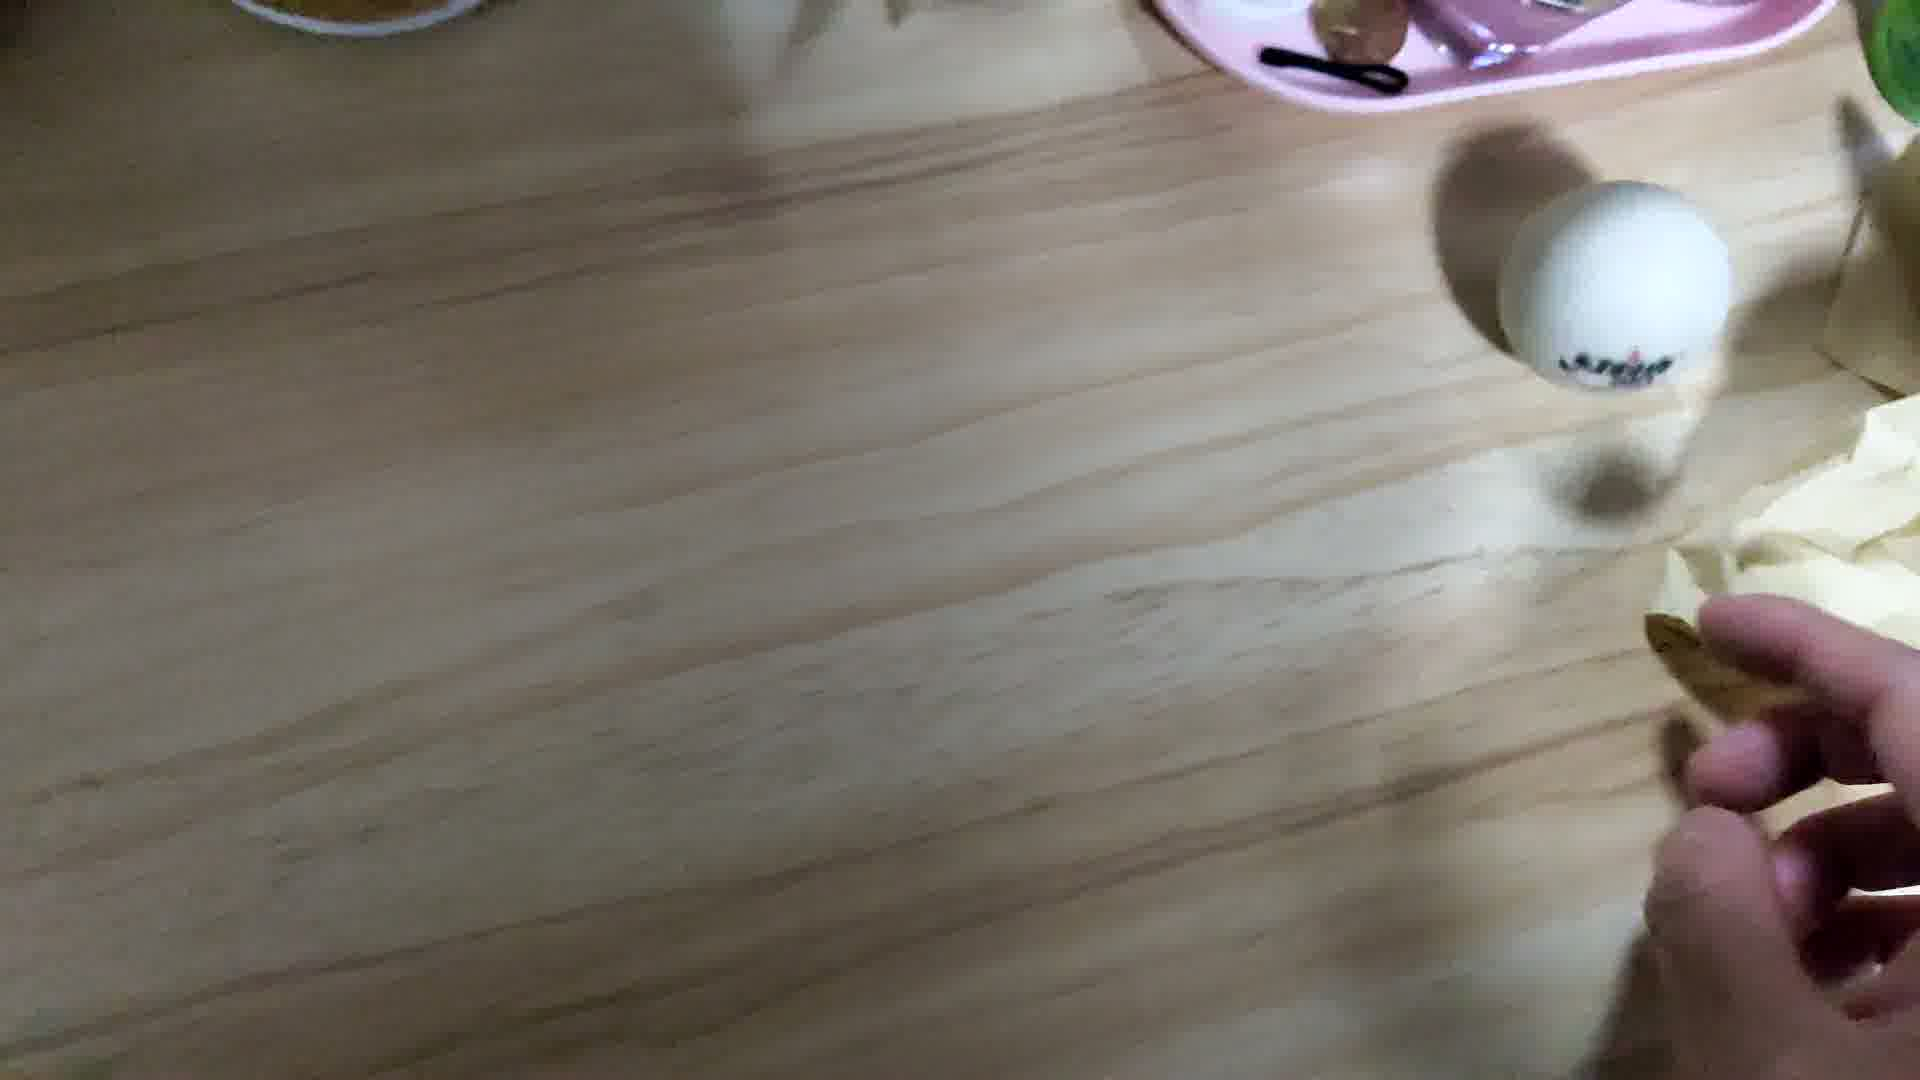Ball: (1499, 182, 1722, 390)
